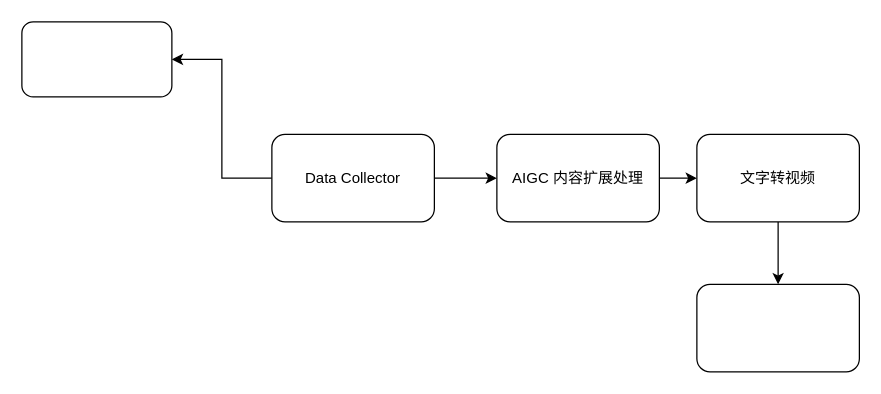
Image size: 881x394. Some labels were removed from this diagram. The shapes that lost their labels are listed below. From the top down, each one's centre as x and y in pixels, then its label:
At (x=96, y=59): "Data Source".
At (x=777, y=327): "多平台发布".
